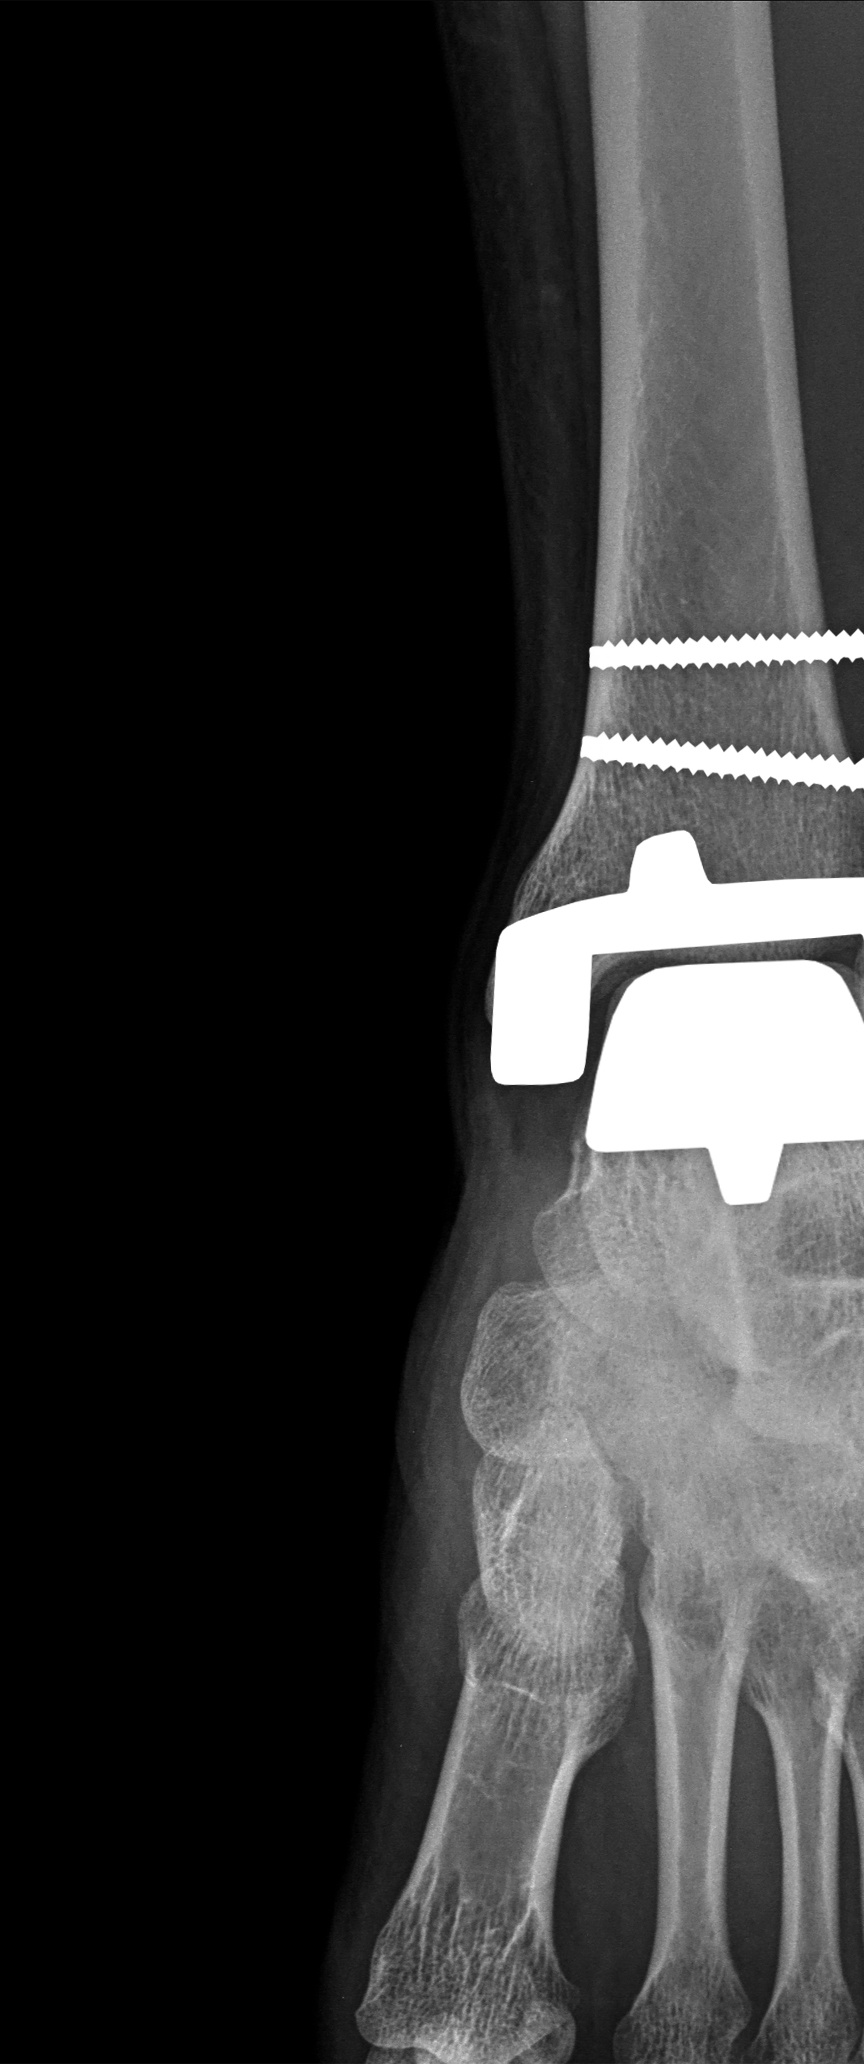Agility-Depuy: (468, 606, 864, 1210)
